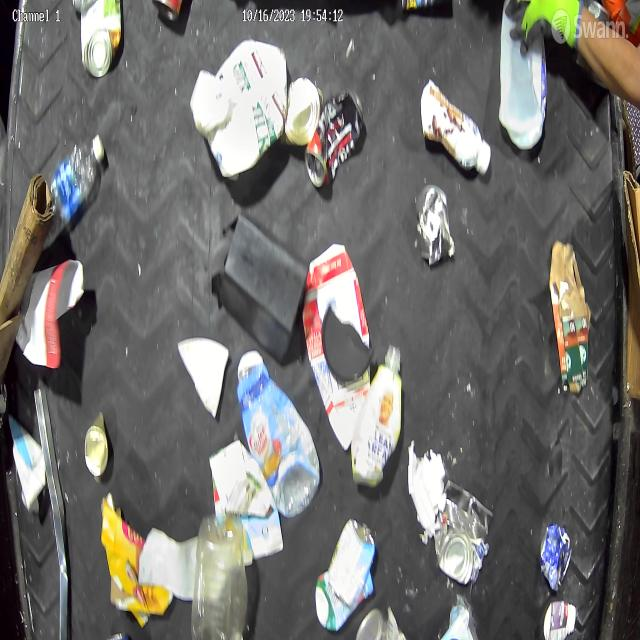can: (308, 89, 366, 189), (326, 507, 376, 616), (436, 482, 488, 580), (77, 0, 125, 85), (413, 178, 452, 265), (284, 68, 320, 161), (78, 410, 115, 486), (534, 519, 572, 591)
milk_jug: (189, 31, 292, 188), (497, 0, 550, 153)
plastic_bottle: (32, 137, 110, 253)
